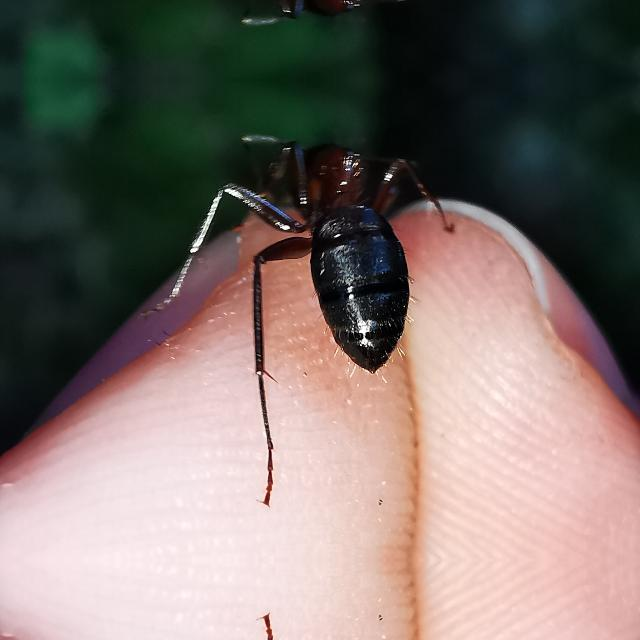Camponotus: (206, 132, 464, 398)
